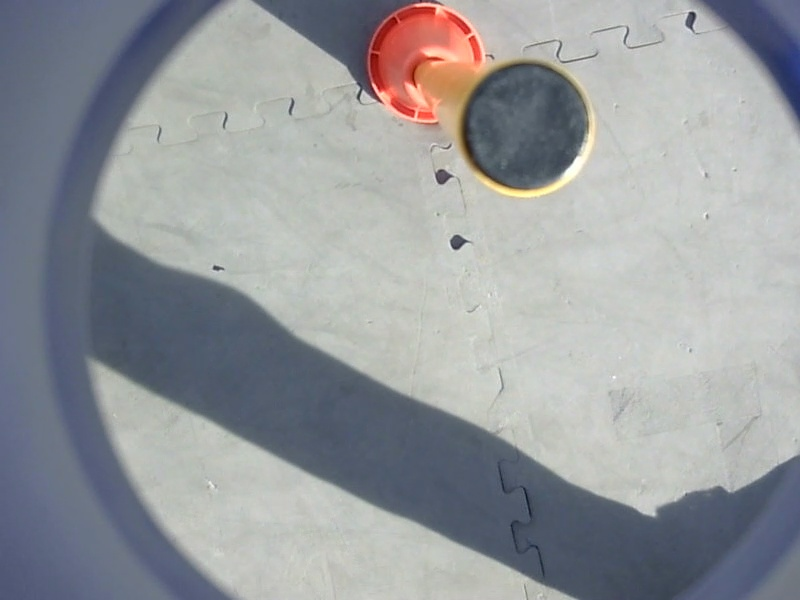tip: (453, 53, 600, 207)
